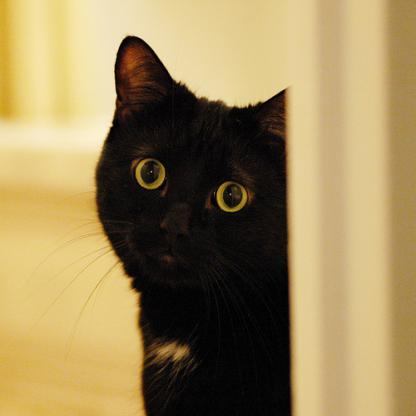cat: (79, 26, 286, 415)
